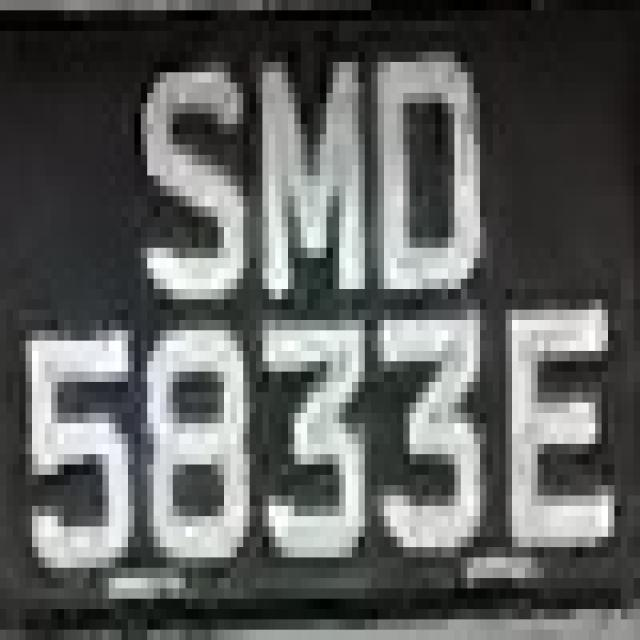3: (358, 310, 506, 588), (250, 300, 371, 588)
5: (13, 289, 141, 609)
8: (134, 268, 256, 609)
D: (358, 52, 493, 310)
E: (493, 289, 621, 588)
M: (237, 52, 358, 310)
S: (134, 62, 250, 299)
